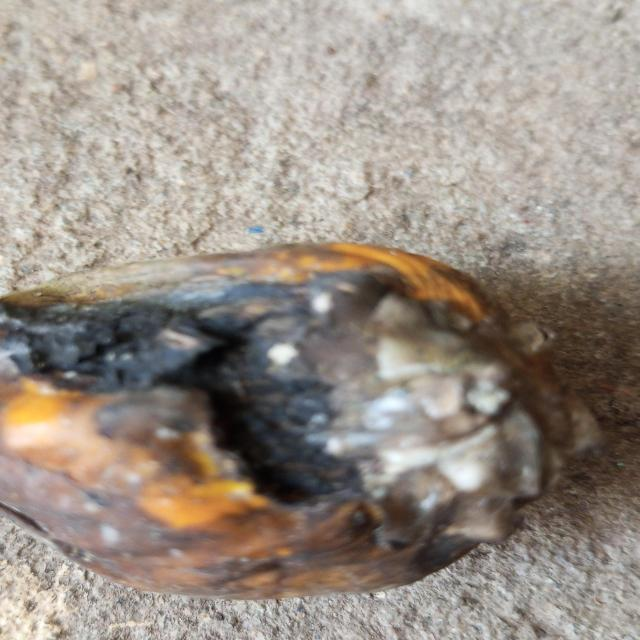damaged: (0, 243, 600, 599)
